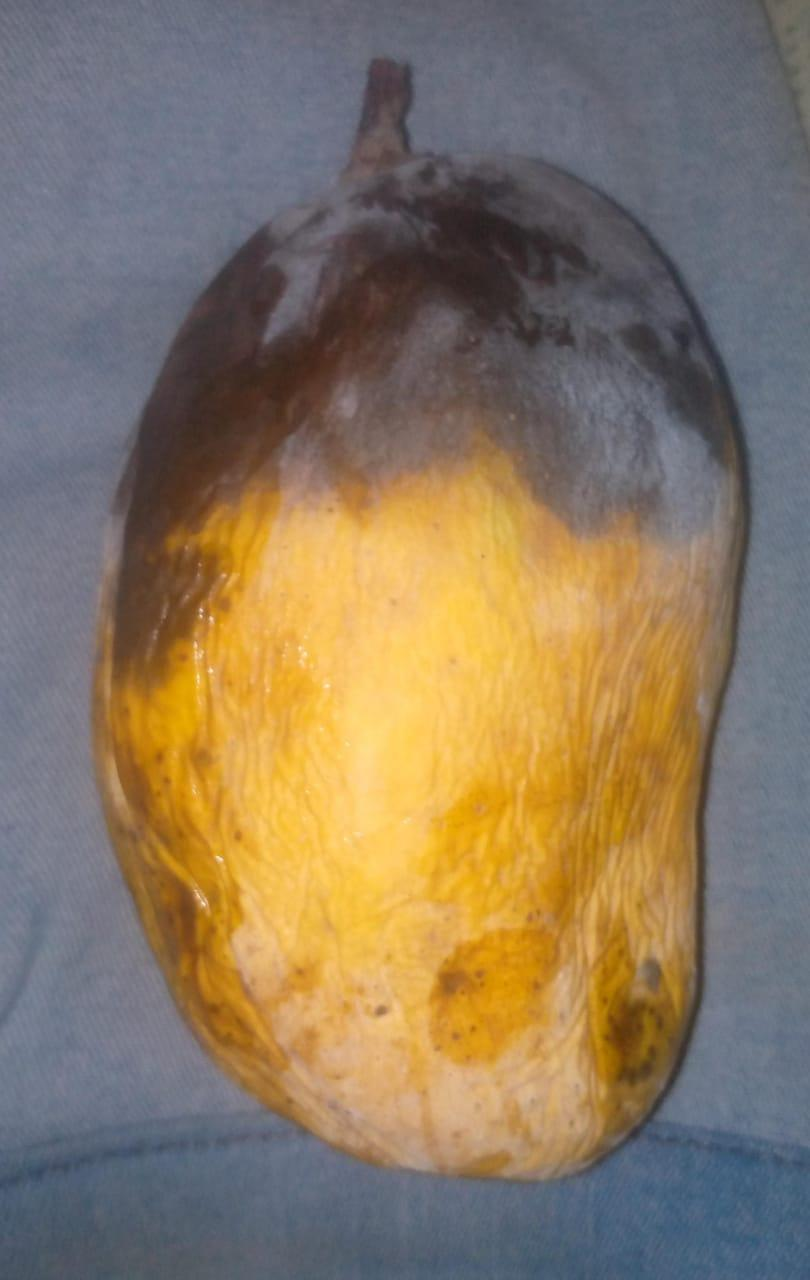mango: (90, 55, 751, 1182)
